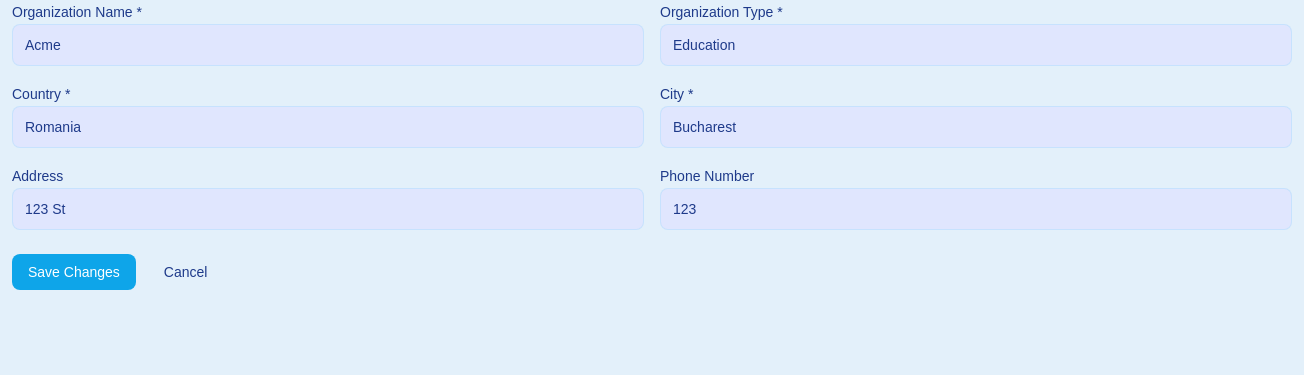
Test: OrganizationInlineEditForm › shows error when org ID is not found
The image size is (1304, 375).
Click the button "Save Changes".
click(74, 272)  # box [12, 254, 136, 290]
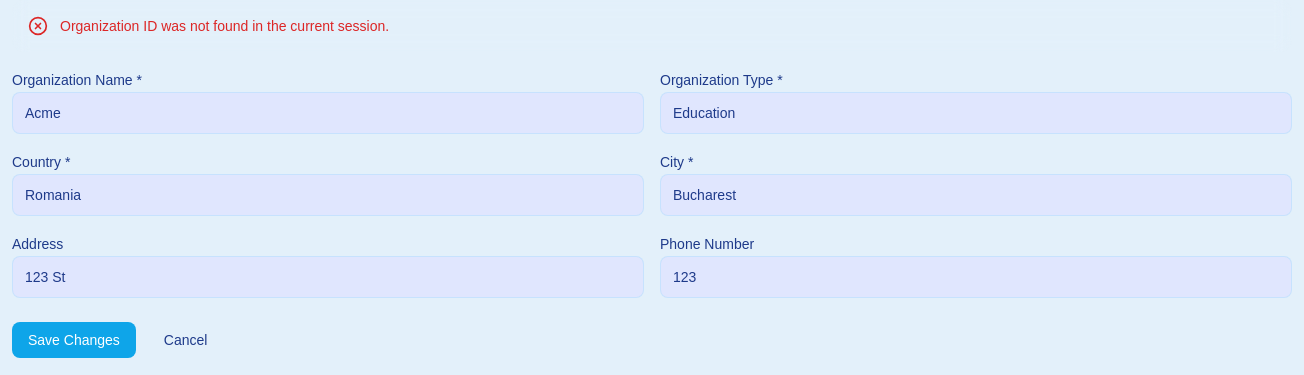
Expected: the text "Organization ID was not found in the current session." is shown, [60, 16, 389, 36]
